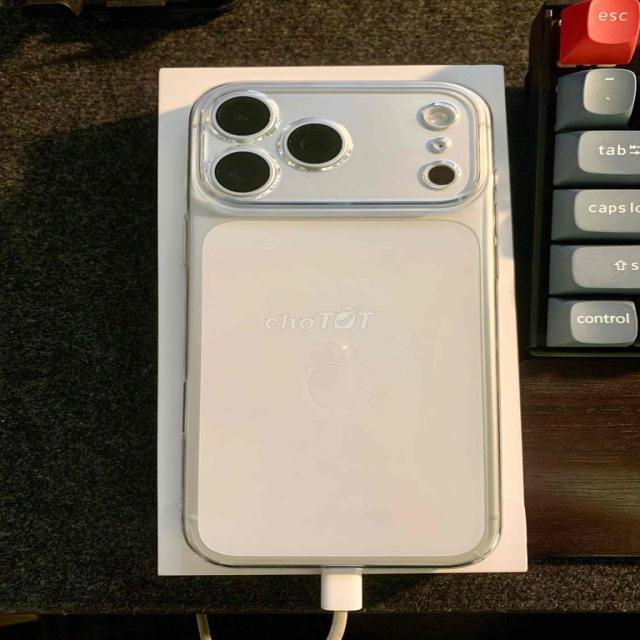gen_17: (179, 76, 512, 574)
